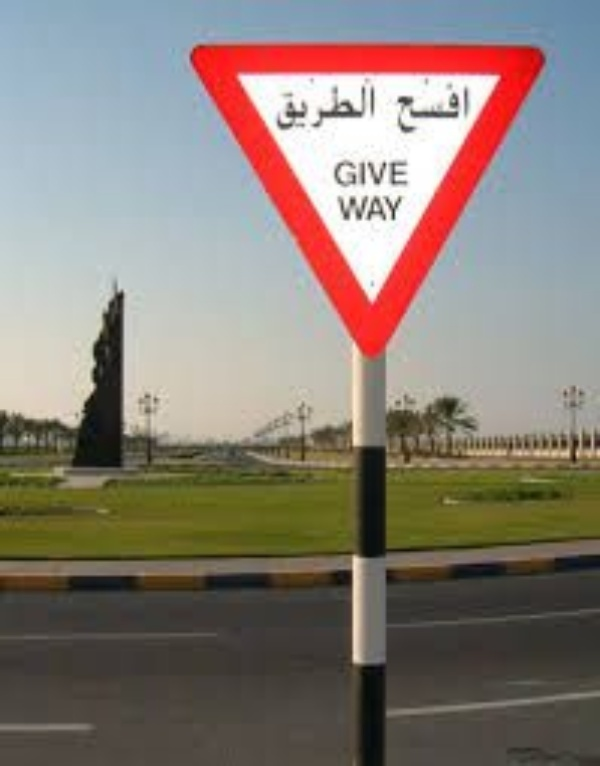text: (401, 82, 416, 136), (417, 82, 432, 136), (433, 82, 448, 136), (449, 82, 464, 136), (289, 82, 304, 133), (305, 82, 320, 133), (321, 82, 336, 133), (337, 82, 352, 133), (353, 82, 368, 133), (337, 157, 352, 190), (353, 157, 368, 190), (369, 157, 384, 190), (385, 157, 400, 190), (337, 194, 352, 224), (353, 194, 368, 224), (369, 194, 384, 224), (385, 194, 400, 224), (369, 82, 377, 133), (281, 82, 288, 133), (401, 157, 411, 190), (465, 82, 471, 136), (395, 82, 400, 136), (332, 157, 336, 190), (401, 194, 405, 224), (335, 194, 336, 224)
